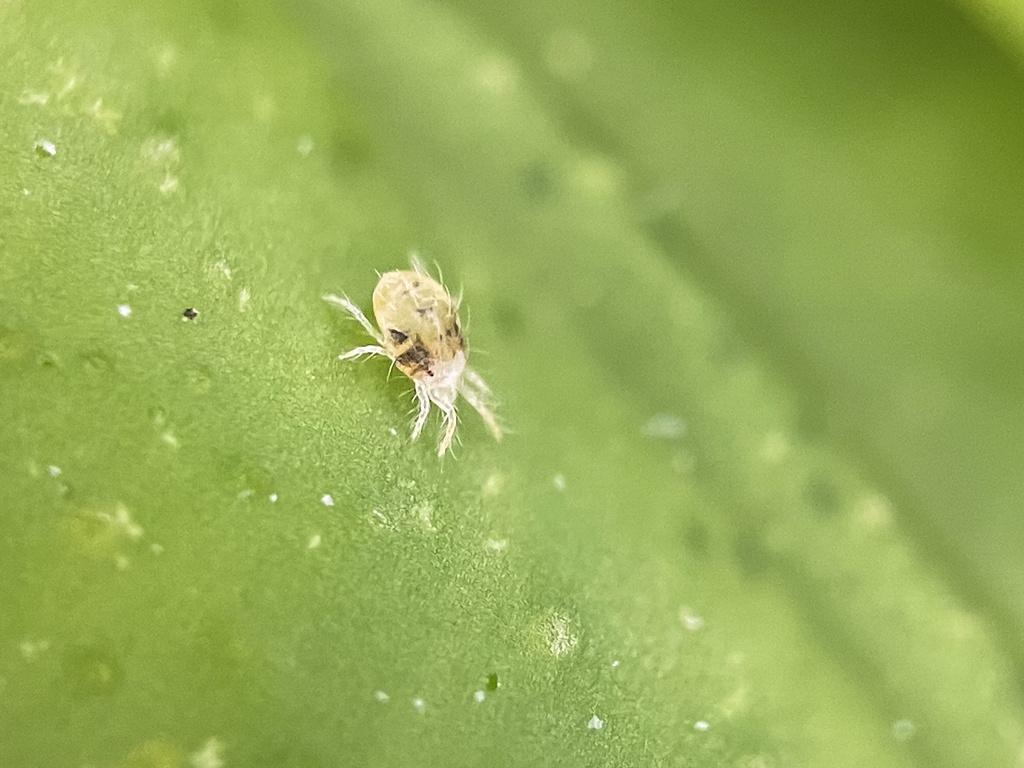tiny_pests: (294, 221, 566, 492)
